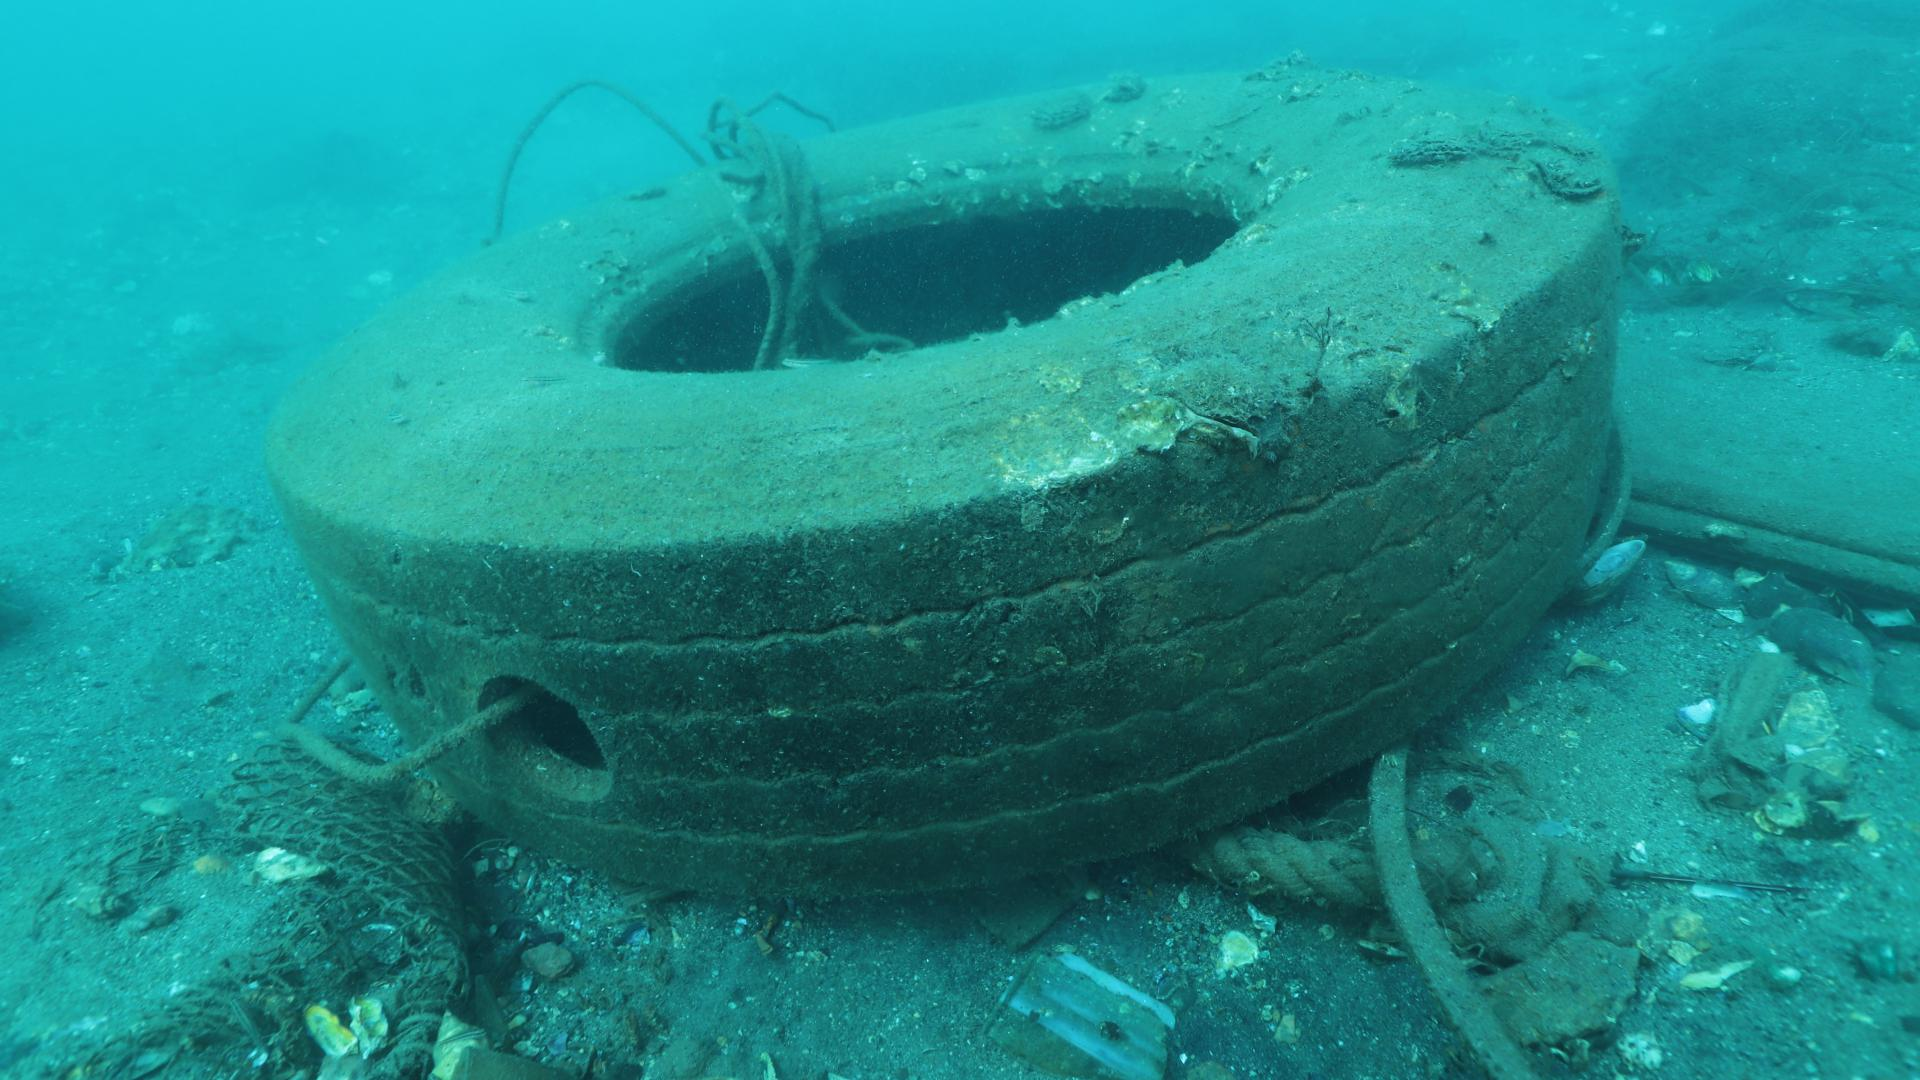bundle of ropes: (698, 86, 916, 372)
fish net: (206, 719, 475, 942)
rope: (488, 75, 715, 247), (280, 651, 539, 785), (1182, 824, 1375, 901)
tire: (274, 73, 1622, 909)
